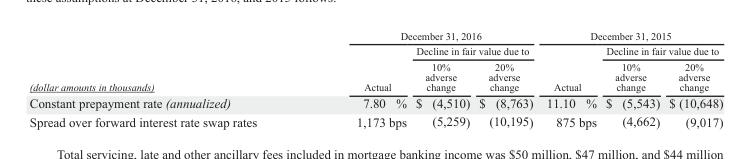table: (28, 29, 722, 128)
table column: (28, 29, 306, 128), (306, 29, 410, 128), (473, 29, 539, 128), (410, 29, 473, 128), (600, 29, 663, 128), (539, 29, 600, 128), (663, 29, 722, 128)
table column header: (28, 29, 722, 94)
table row: (28, 58, 722, 94), (28, 94, 722, 112), (28, 42, 722, 58), (28, 112, 722, 128), (28, 29, 722, 42)
table spanning cell: (28, 29, 306, 94), (306, 42, 410, 94), (539, 42, 600, 94), (306, 29, 539, 42), (539, 29, 722, 42), (410, 42, 539, 58), (600, 42, 722, 58)
